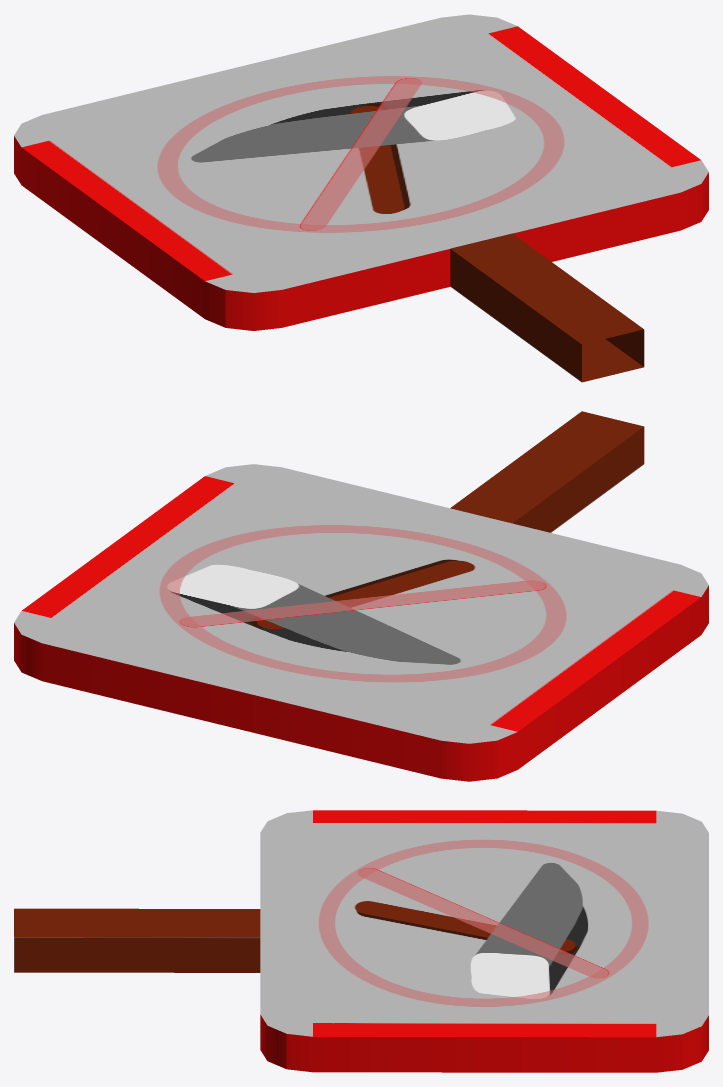
Rendered from Placa_Negativa.fbx.
The picture shows the model from 3 angles, top to bottom: view 1: azimuth 30°, elevation 25°; view 2: azimuth 150°, elevation 25°; view 3: azimuth 270°, elevation 25°; orthographic projection. The views are drawn at different scales.
Visible parts, largest first — view 1: Placa_Negativa; view 2: Placa_Negativa; view 3: Placa_Negativa.
Part boxes in pixels (box(x1,y1,x2,y2)): Placa_Negativa: box(14, 14, 708, 382); Placa_Negativa: box(14, 411, 708, 781); Placa_Negativa: box(14, 810, 708, 1072).
Bounding box in the file's own units: 73.37 × 5.54 × 95.1.
